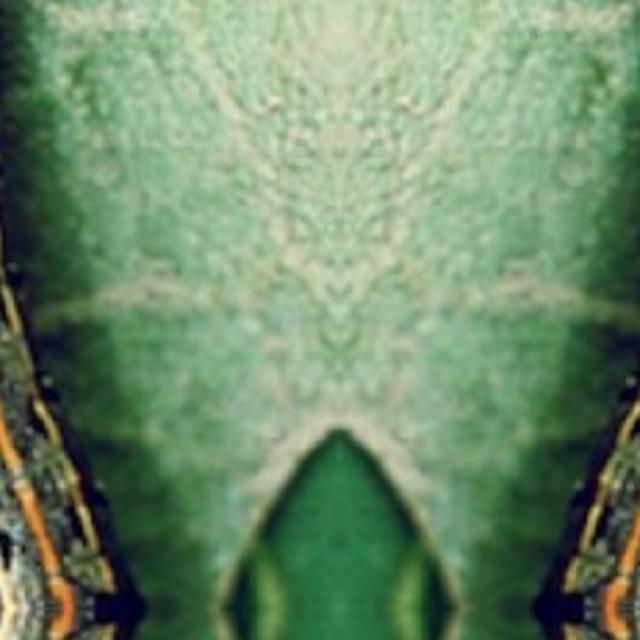armyworm: (0, 253, 134, 637), (545, 365, 640, 640)
